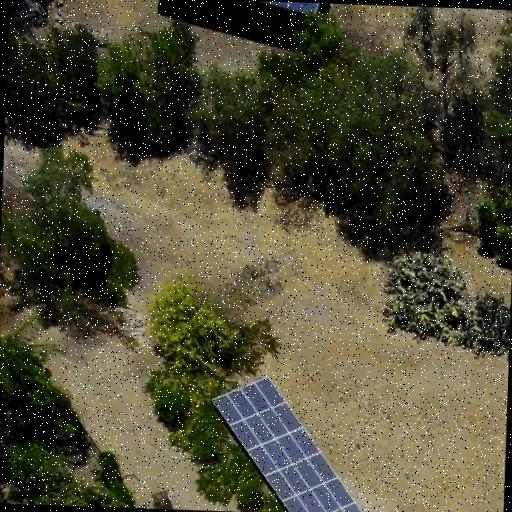solar-panel: (211, 376, 363, 512), (259, 0, 320, 17)
